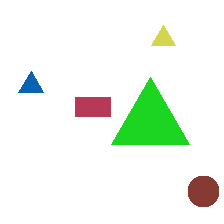circle: (188, 176, 218, 206)
rectangle: (75, 97, 110, 116)
triangle: (111, 77, 189, 144), (18, 71, 43, 92), (151, 25, 175, 45)
